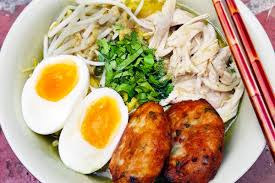soto: (9, 3, 249, 183)
